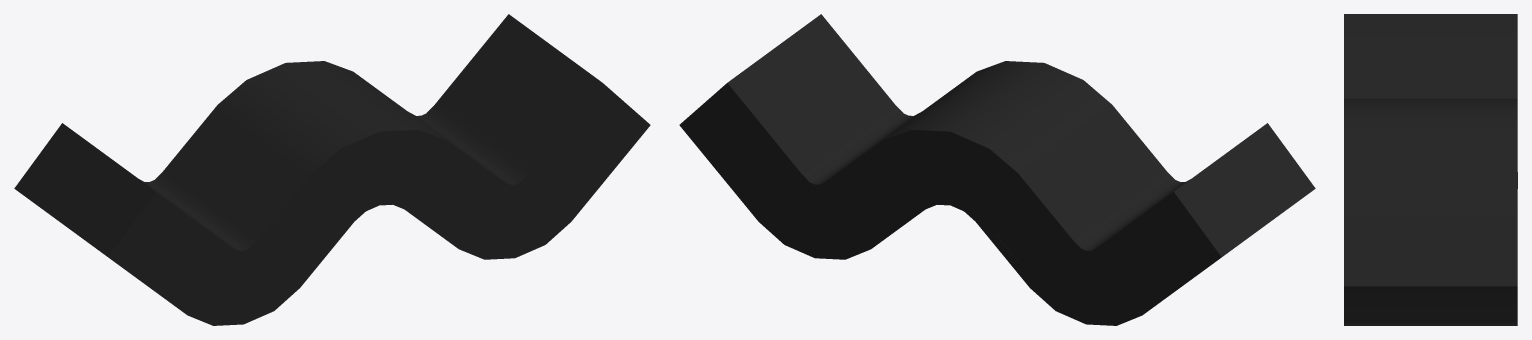
Rendered from wavy_dash.fbx.
3 renders of one model, left to right at view 1: azimuth 30°, elevation 25°; view 2: azimuth 150°, elevation 25°; view 3: azimuth 270°, elevation 25°, orthographic. The views are drawn at different scales.
Visible parts, largest first — view 1: Plane.151; view 2: Plane.151; view 3: Plane.151.
Boxes of the visible parts, box(x1,y1,x2,y2) form: Plane.151: box(14, 14, 650, 325); Plane.151: box(679, 14, 1315, 325); Plane.151: box(1344, 14, 1517, 325).
Bounding box in the file's own units: 200 × 56.25 × 60.11.
1 material, 1 textured.
